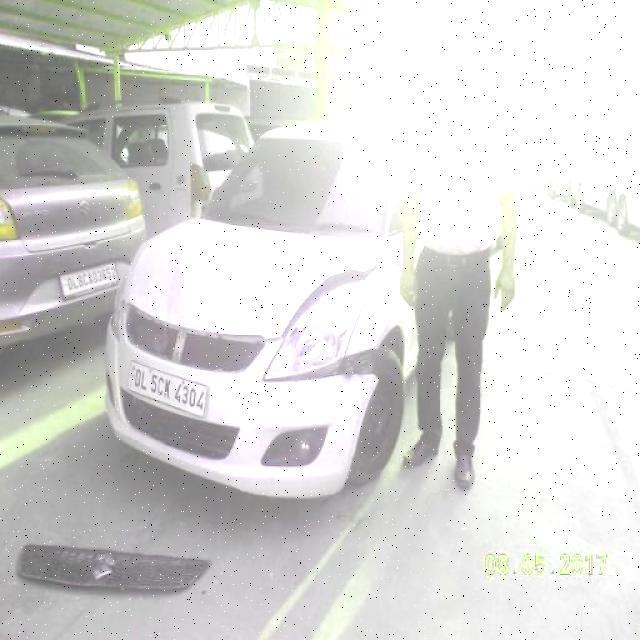car damage: (128, 249, 290, 340), (118, 300, 270, 378), (275, 256, 383, 346), (262, 343, 381, 389)
